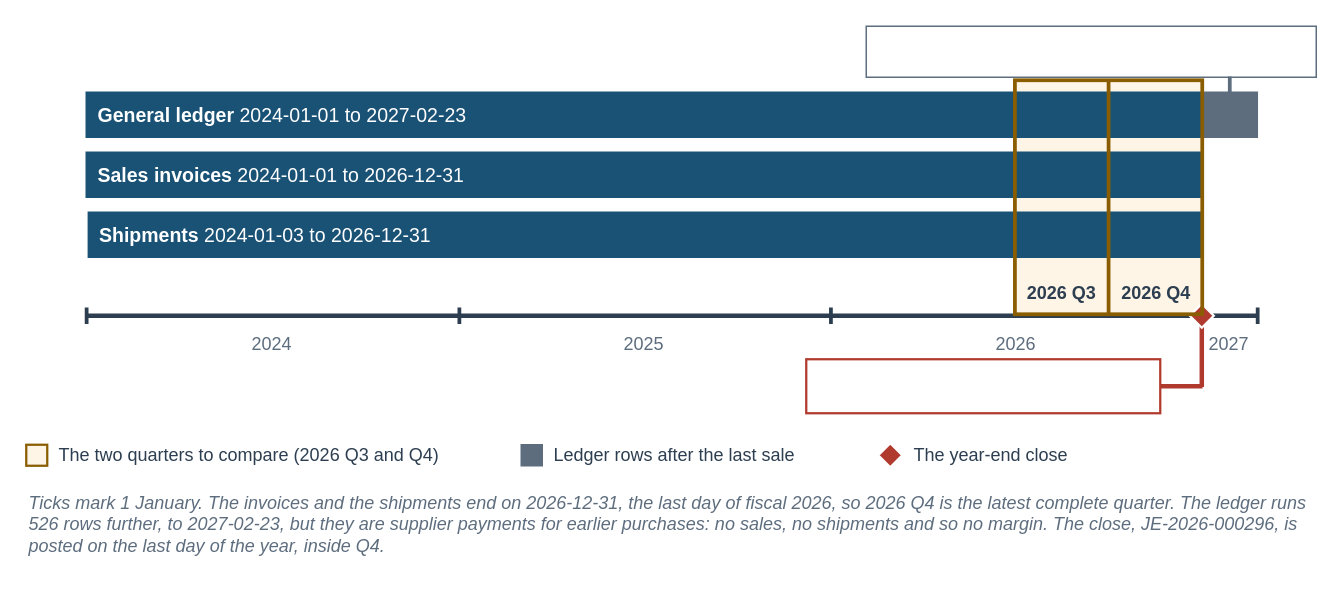
This 1344x590 diagram has some shape labels left out. The centre of each missing label's shape, as x and y in pixels:
only supplier payments 526 ledger rows, 2027-01-01 to 2027-02-23: [1090,51]
year-end close JE-2026-000296, posted 2026-12-31: [982,385]
